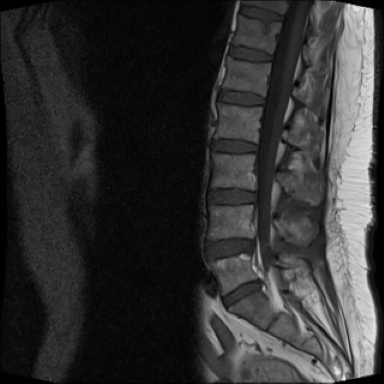Lumbar Disc Bulge (LDB): (214, 265, 271, 312), (196, 228, 263, 265)
Normal IVD: (210, 82, 271, 111), (199, 180, 261, 208), (220, 37, 277, 65), (203, 132, 260, 157), (233, 3, 286, 25)
Spinal Stenosis (SS): (236, 230, 269, 264), (246, 264, 270, 298)
